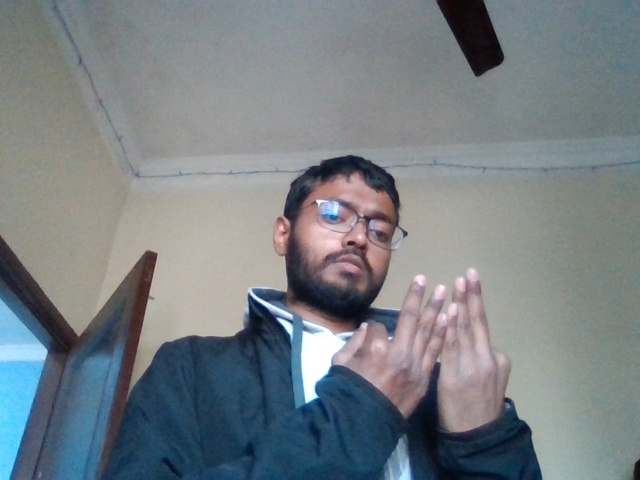family: (325, 267, 515, 424)
